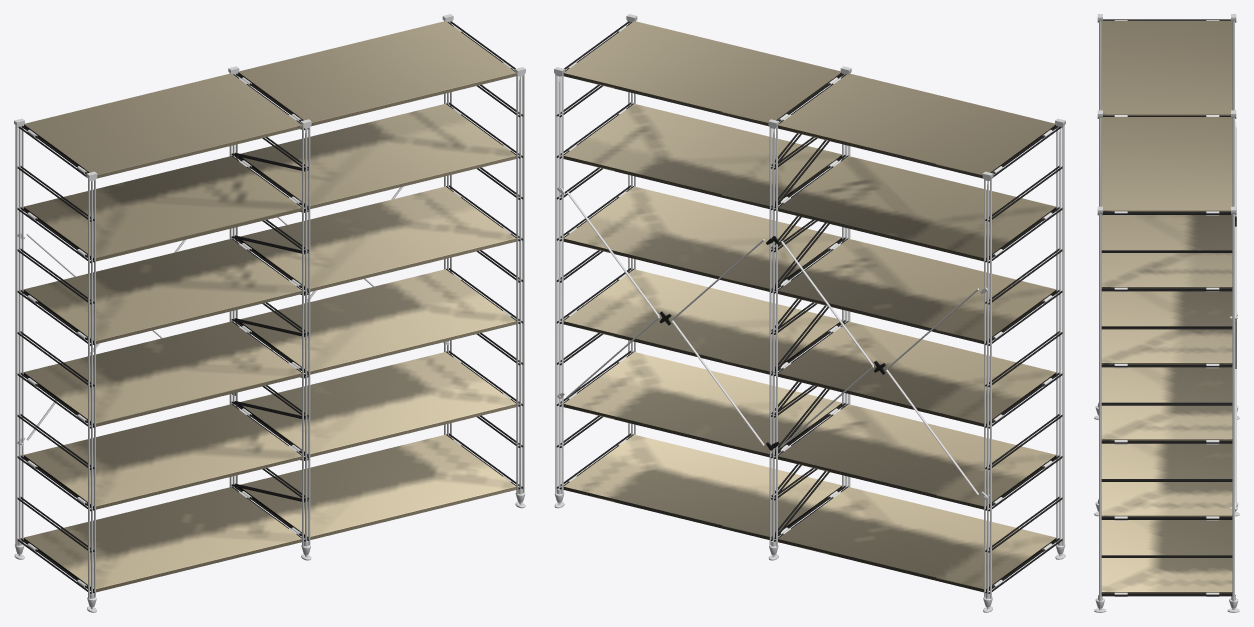
File: guizi.FBX
The picture shows the model from 3 angles, left to right: view 1: azimuth 30°, elevation 25°; view 2: azimuth 150°, elevation 25°; view 3: azimuth 270°, elevation 25°; orthographic projection. The views are drawn at different scales.
Visible parts, largest first — view 1: bqn2, ban1, ban5, ban3, ban11, ban7, ban9, ban10, ban4, ban6, ban8, ban12 (+12 smaller); view 2: bqn2, ban1, ban3, ban11, ban9, ban5, ban4, ban12, ban7, ban6, ban10, ban8 (+12 smaller); view 3: ban1, bqn2, ban12, ban4, ban8, ban6, ban10, Cylinder40, Cylinder40.Cylinder20, Cylinder48.Cylinder19, Cylinder48.Cylinder27, Cylinder40.Cylinder65 (+19 smaller).
Boxes of the visible parts, x1,y1,x2,y2 form: bqn2: [238, 21, 516, 126]; ban1: [24, 73, 301, 178]; ban5: [23, 239, 301, 344]; ban3: [23, 156, 301, 261]; ban11: [23, 487, 301, 592]; ban7: [23, 321, 301, 426]; ban9: [23, 404, 301, 509]; ban10: [238, 352, 516, 457]; ban4: [238, 103, 516, 208]; ban6: [238, 186, 516, 291]; ban8: [238, 269, 516, 374]; ban12: [238, 434, 516, 539]; bqn2: [563, 21, 841, 126]; ban1: [778, 73, 1055, 178]; ban3: [778, 156, 1056, 261]; ban11: [778, 487, 1056, 592]; ban9: [778, 404, 1056, 509]; ban5: [778, 239, 1056, 344]; ban4: [563, 103, 841, 208]; ban12: [563, 434, 841, 539]; ban7: [778, 321, 1056, 426]; ban6: [563, 186, 841, 291]; ban10: [563, 352, 841, 457]; ban8: [563, 269, 841, 374]; ban1: [1101, 20, 1232, 115]; bqn2: [1101, 117, 1232, 211]; ban12: [1101, 520, 1232, 593]; ban4: [1101, 215, 1232, 288]; ban8: [1101, 367, 1232, 440]; ban6: [1101, 291, 1232, 364]; ban10: [1101, 443, 1232, 516]; Cylinder40: [1099, 214, 1101, 601]; Cylinder40.Cylinder20: [1232, 214, 1234, 601]; Cylinder48.Cylinder19: [1101, 594, 1232, 596]; Cylinder48.Cylinder27: [1101, 289, 1232, 291]; Cylinder40.Cylinder65: [1232, 21, 1234, 110].
Size of the model in its own units: 2127 by 2034 by 666.
17 materials, 12 textured.
